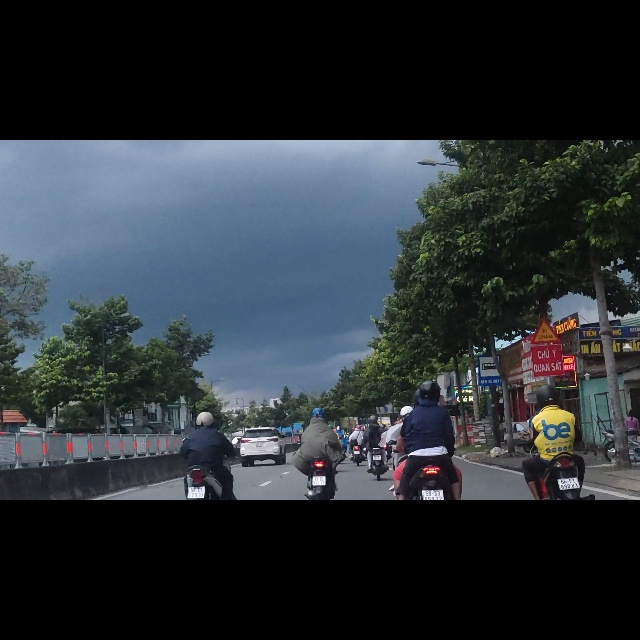bien_nguy_hiem: (477, 380, 504, 438), (529, 317, 559, 363)
